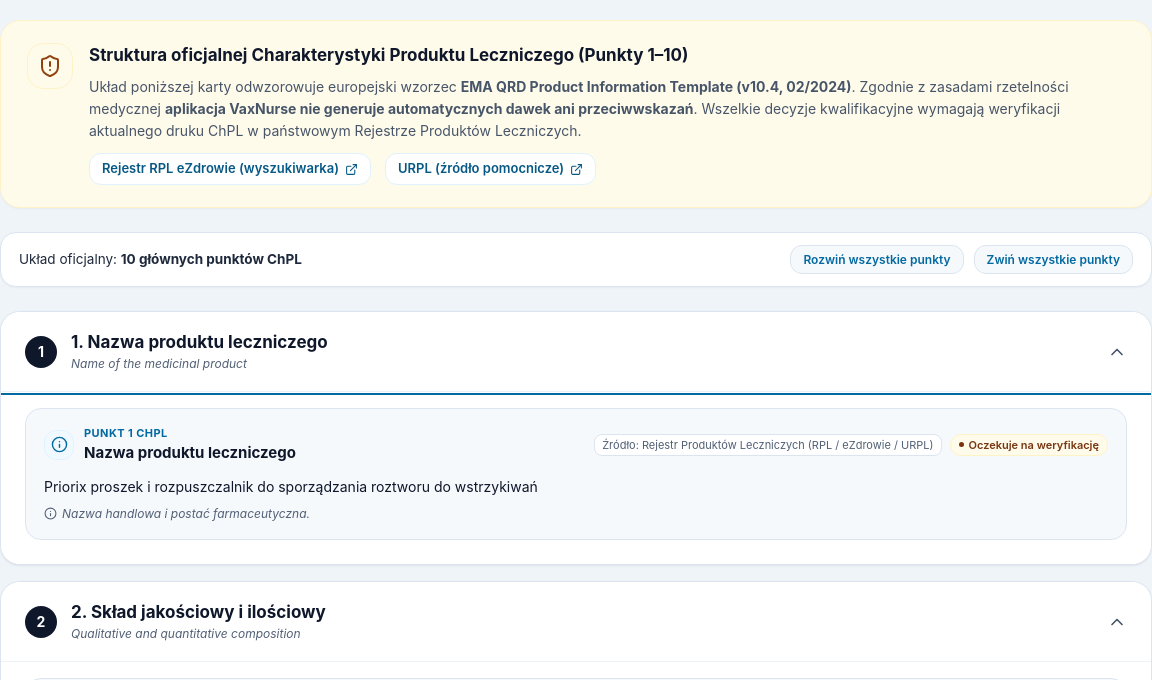
Test: VaccineDetailView — akordeony 1–10 ChPL, klawiatura i blokada Infanrix hexa › renderuje 10 punktów EMA QRD i obsługuje otwieranie/zamykanie pojedynczo oraz masowo myszą i klawiaturą
This screenshot has width=1152, height=680.
(page scrolled)
Press Enter
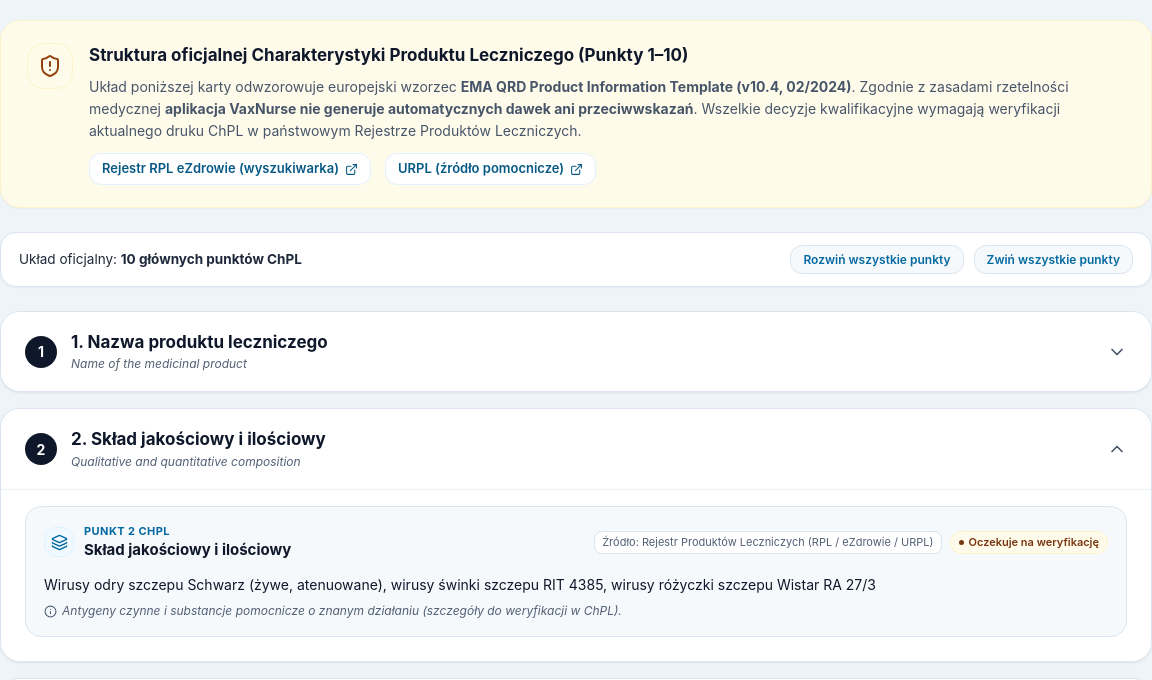
Result: the button "1. Nazwa produktu leczniczego" is collapsed at left=1, top=312, right=1151, bottom=391
Type keys " "
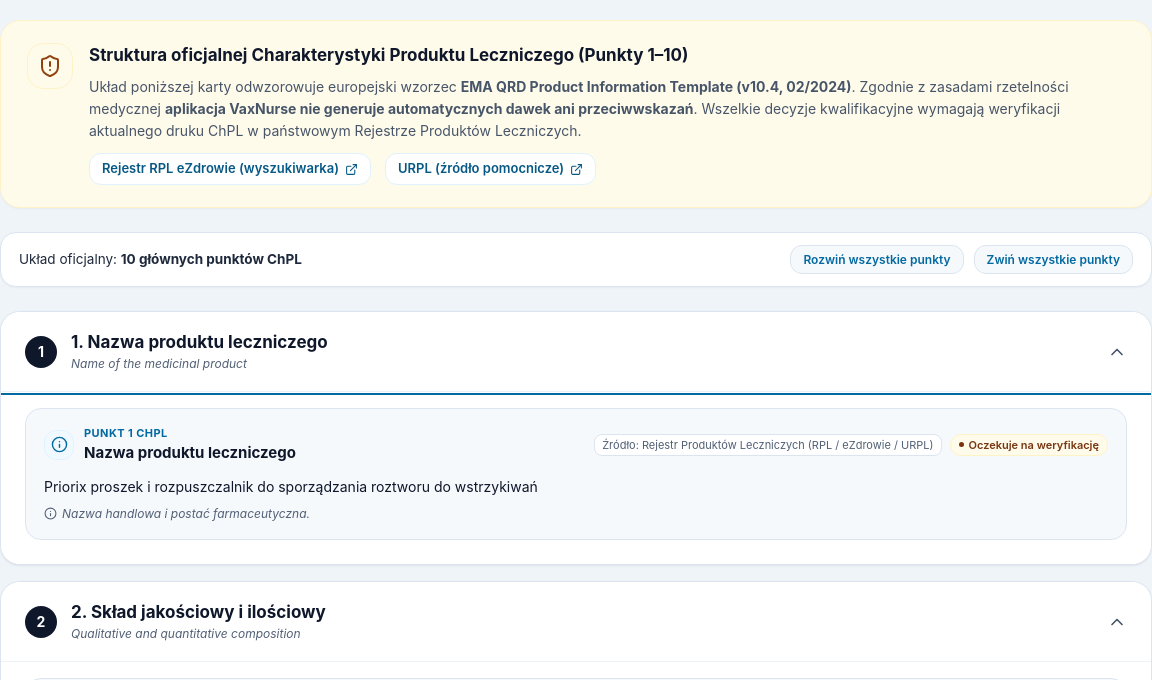
Result: the button "1. Nazwa produktu leczniczego" is expanded at left=1, top=312, right=1151, bottom=391
Click the button "Rozwiń wszystkie punkty".
click(877, 259)  # box left=790, top=245, right=964, bottom=274
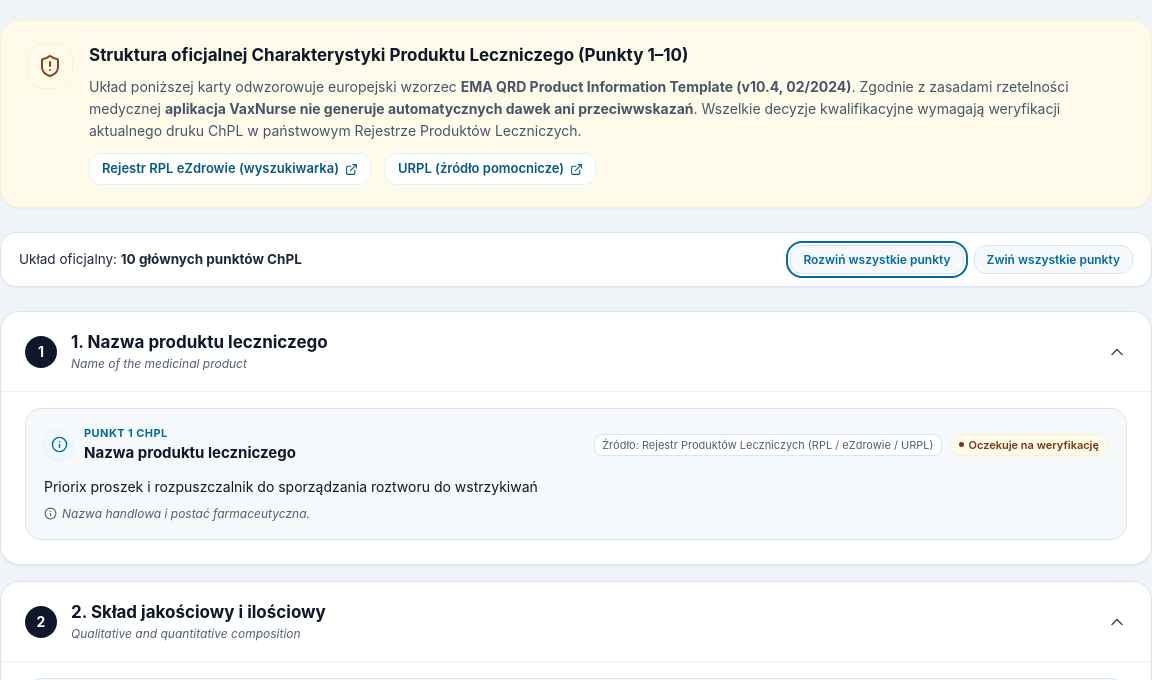
Click the button "Zwiń wszystkie punkty".
click(1053, 259)  # box left=974, top=245, right=1133, bottom=274
(page scrolled)
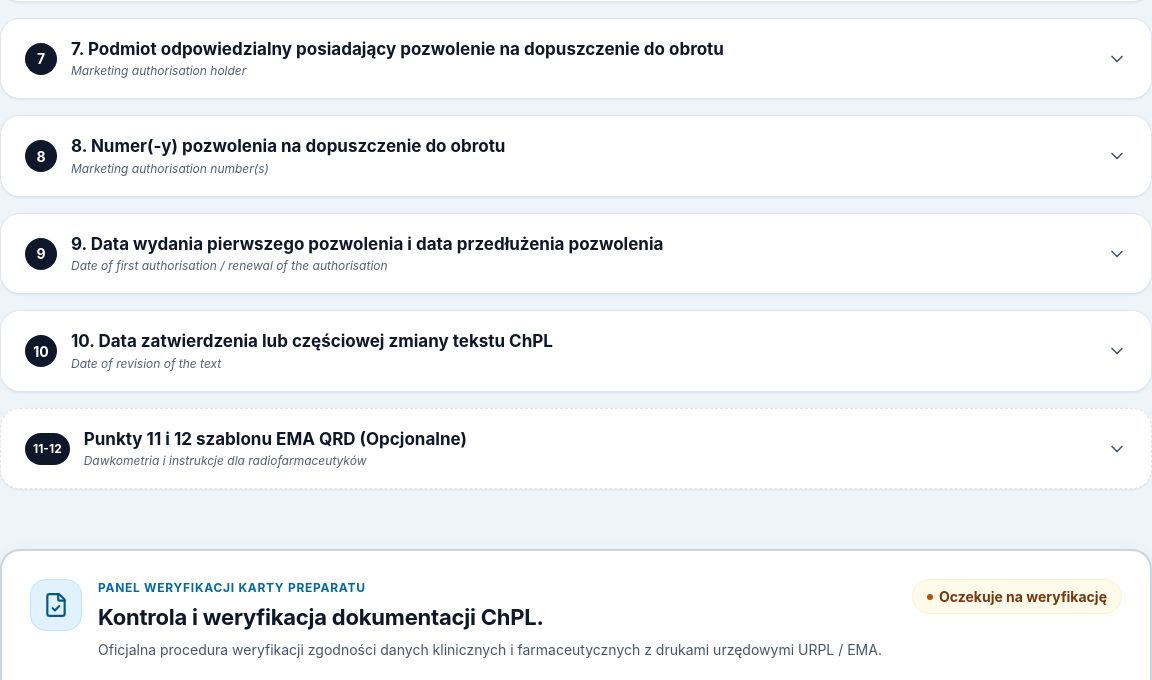
Result: the button "10. Data zatwierdzenia lub częściowej zmiany tekstu" is collapsed at left=1, top=311, right=1151, bottom=391
